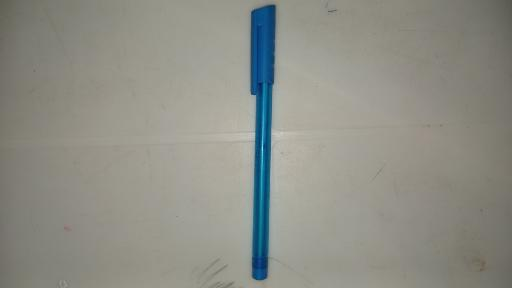pen: (250, 6, 276, 281)
